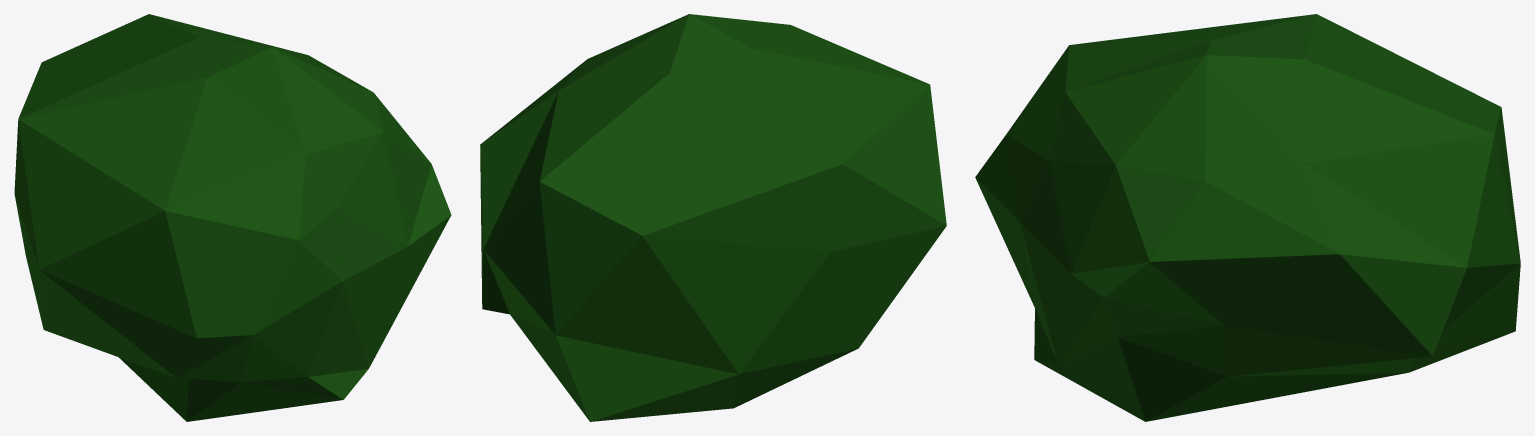
The picture shows the model from 3 angles, left to right: view 1: azimuth 30°, elevation 25°; view 2: azimuth 150°, elevation 25°; view 3: azimuth 270°, elevation 25°; orthographic projection. The views are drawn at different scales.
Parts seen in each view (by area): view 1: Icosphere; view 2: Icosphere; view 3: Icosphere.
Part boxes in pixels (x1=…): Icosphere: x1=14, y1=14, x2=451, y2=421; Icosphere: x1=480, y1=14, x2=946, y2=421; Icosphere: x1=975, y1=14, x2=1520, y2=421.
Bounding box in the file's own units: 349 × 288 × 402.
